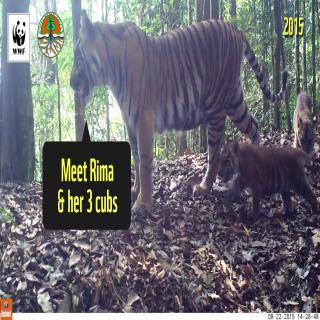Tiger: (68, 4, 290, 134), (210, 126, 320, 230), (283, 80, 317, 153)
